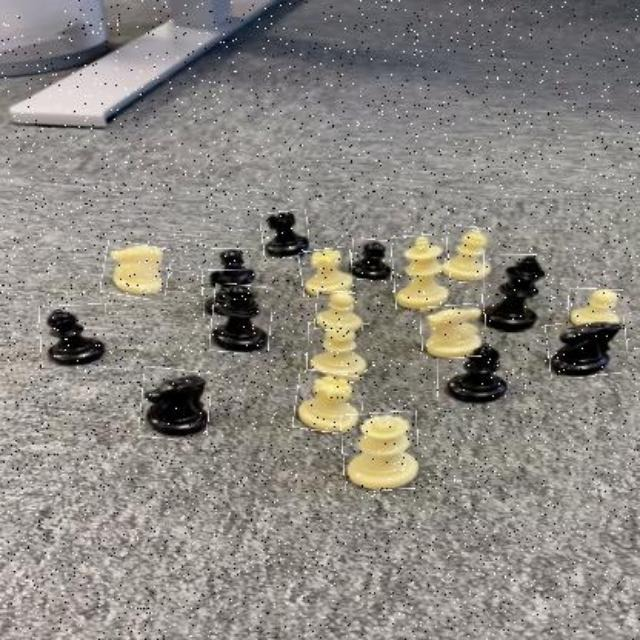black-bishop: (437, 343, 512, 407), (39, 304, 106, 368)
black-king: (483, 255, 546, 333)
black-knight: (140, 368, 210, 440), (547, 318, 627, 378)
black-pawn: (211, 247, 257, 288), (350, 240, 393, 281)
black-queen: (211, 285, 272, 354)
black-rook: (202, 271, 257, 319), (262, 211, 310, 259)
white-bishop: (308, 324, 370, 380), (442, 227, 494, 283)
white-king: (393, 234, 451, 309)
white-knight: (104, 244, 170, 300), (422, 305, 486, 359)
white-pawn: (569, 289, 624, 331), (315, 291, 363, 332)
white-queen: (342, 412, 420, 492)
white-rook: (293, 372, 362, 433), (301, 248, 353, 296)
